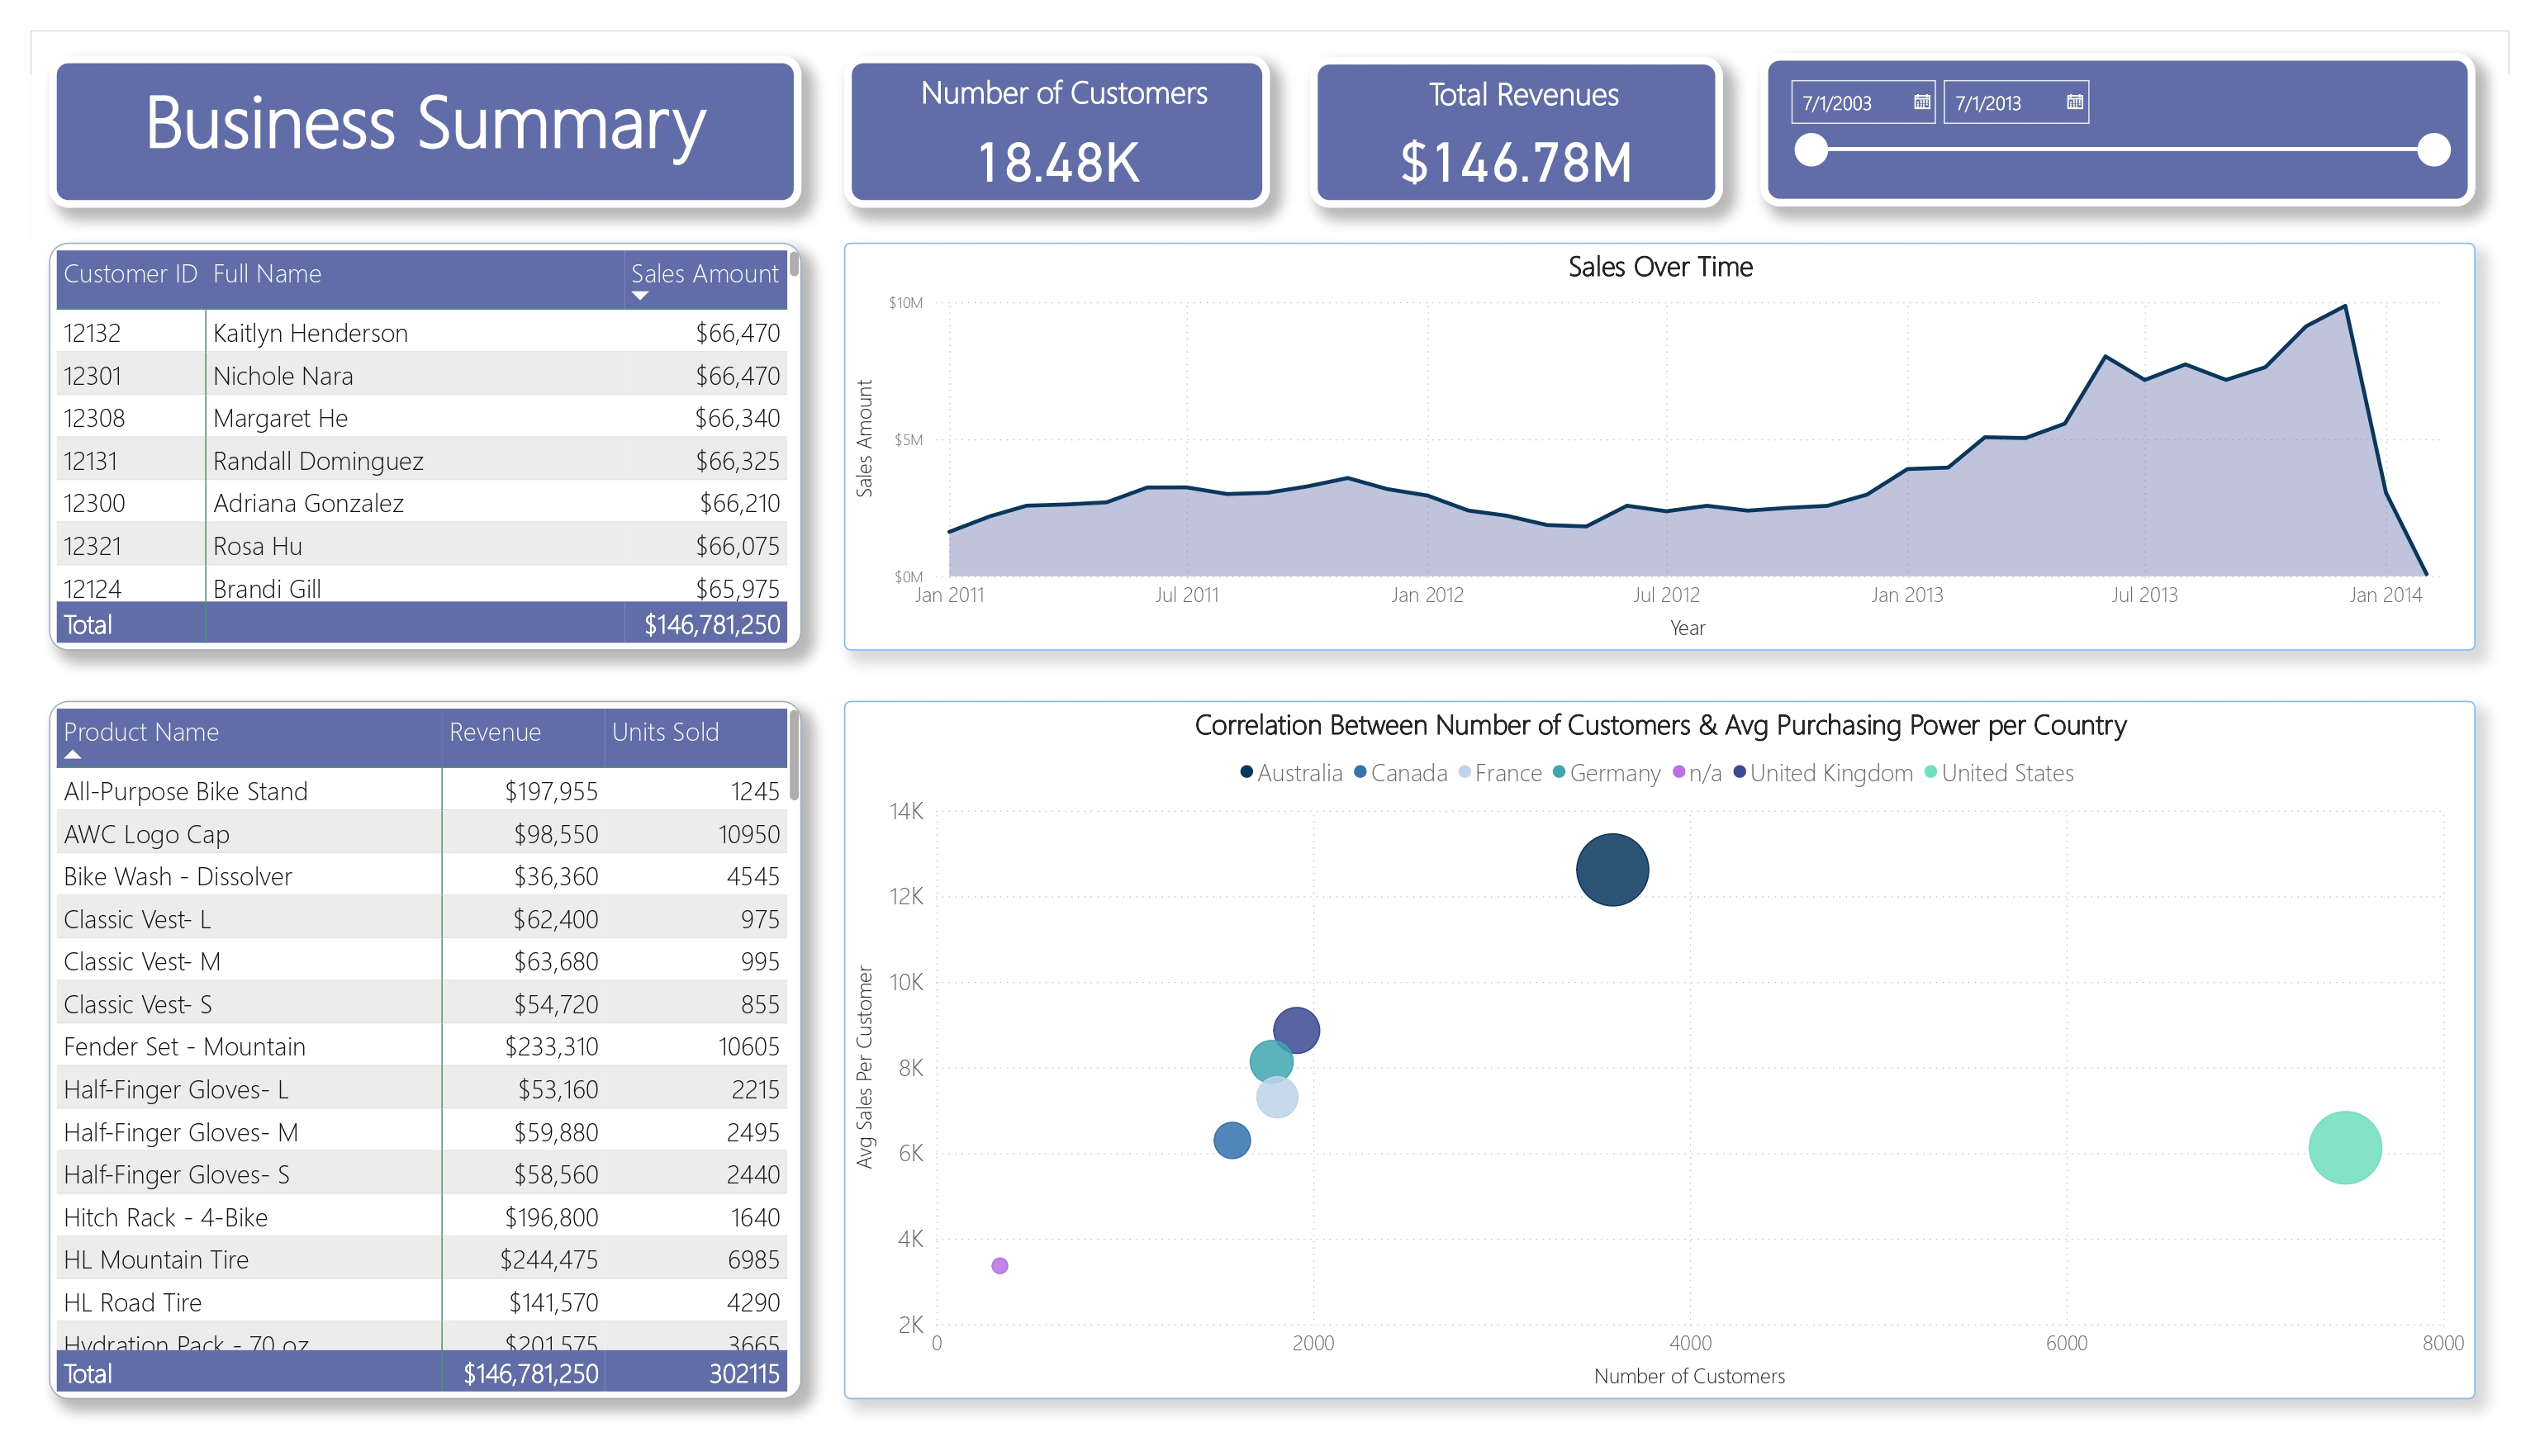

This screenshot's page, from the dashboard's own definition file:
{"tool":"powerbi","page":{"name":"Overview","canvas":[1920,1080],"ordinal":0},"visuals":[{"type":"textbox","box":[14.3,18.6,582.9,118.6],"z":0},{"type":"card","title":"Number of Customers","fields":{"Values":["Count(dim_customers.customer_id)"]},"box":[630,18.6,330,118.6],"z":1000},{"type":"card","title":"Total Revenues","fields":{"Values":["Sum(fact_sales.sales_amount)"]},"box":[991.4,20,320,117.1],"z":2000},{"type":"slicer","fields":{"Values":["dim_products.start_date"]},"box":[1340,17.1,554.3,118.6],"z":3000},{"type":"areaChart","title":"Sales Over Time","fields":{"Category":["dim_dates.date_value.Variation.Date Hierarchy.Year","dim_dates.date_value.Variation.Date Hierarchy.Quarter","dim_dates.date_value.Variation.Date Hierarchy.Month"],"Y":["Sum(fact_sales.sales_amount)"]},"box":[630,164.3,1264.3,315.7],"z":4000},{"type":"pivotTable","fields":{"Rows":["dim_products.product_name"],"Values":["Sum(fact_sales.sales_amount)","Sum(fact_sales.quantity)"]},"box":[14.3,518.6,582.9,541.4],"z":5000},{"type":"scatterChart","title":"Correlation Between Number of Customers & Avg Purchasing Power per Country","fields":{"Series":["dim_customers.country"],"X":["CountNonNull(dim_customers.customer_id)"],"Y":["measures_table.AvgSalesPerCustomer"],"Size":["Sum(fact_sales.sales_amount)"]},"box":[630,518.6,1264.3,541.4],"z":6000},{"type":"pivotTable","fields":{"Values":["Min(dim_customers.full_name)","Sum(fact_sales.sales_amount)"],"Rows":["dim_customers.customer_id"]},"box":[14.3,164.3,582.9,315.7],"z":7000}]}

Visuals, with their boxes on the page's 1920x1080 design canvas (x1, y1, x2, y2). These are canvas units, not pixel positions in the 2540x1456 screenshot, which may show the page scaled, cropped or inside an application window:
textbox: [14,19,597,137]
"Number of Customers" card: [630,19,960,137]
"Total Revenues" card: [991,20,1311,137]
slicer - dim_products.start_date: [1340,17,1894,136]
"Sales Over Time" areaChart: [630,164,1894,480]
pivotTable - dim_products.product_name x Sum(fact_sales.sales_amount): [14,519,597,1060]
"Correlation Between Number of Customers & Avg Purchasing Power per Country" scatterChart: [630,519,1894,1060]
pivotTable - Min(dim_customers.full_name) x Sum(fact_sales.sales_amount): [14,164,597,480]
